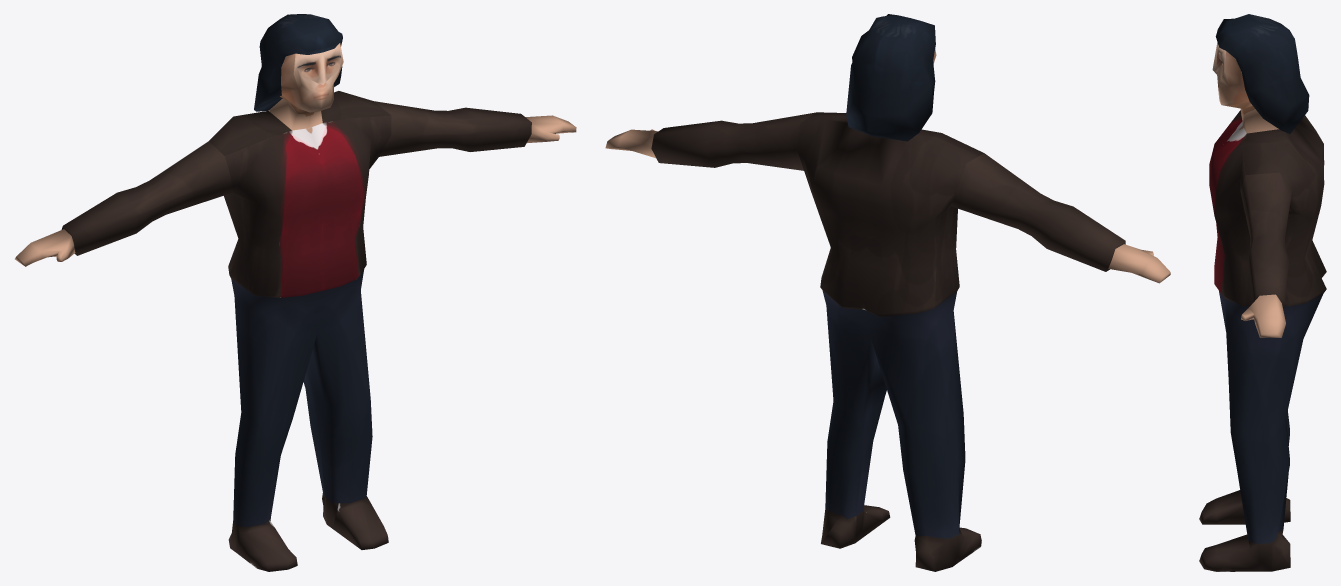
The model's file is Samuel.fbx.
3 views of the same model, side by side, from view 1: azimuth 30°, elevation 25°; view 2: azimuth 150°, elevation 25°; view 3: azimuth 270°, elevation 25° (orthographic).
Visible parts, largest first — view 1: Cube; view 2: Cube; view 3: Cube.
Part boxes in pixels (x1=…): Cube: x1=15, y1=14, x2=576, y2=571; Cube: x1=605, y1=14, x2=1170, y2=571; Cube: x1=1199, y1=14, x2=1326, y2=571.
Bounding box in the file's own units: 176 × 158 × 35.34.
1 material, 1 textured.
